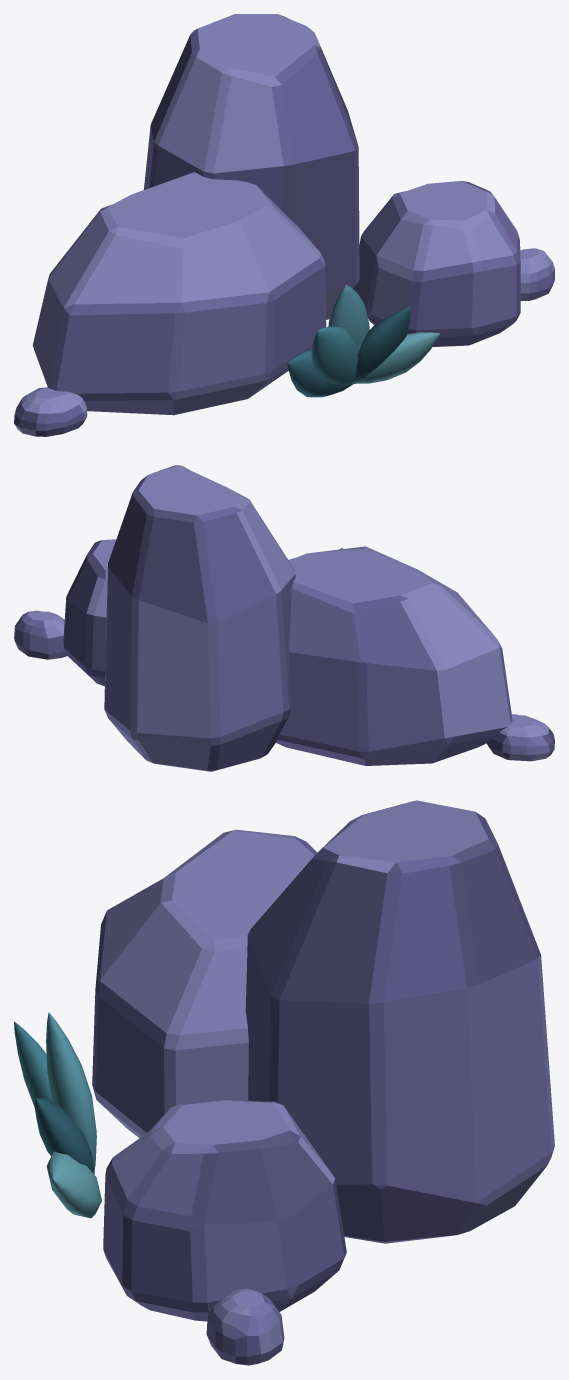
The model's file is slate_rock_cluster.glb.
3 renders of one model, top to bottom at view 1: azimuth 30°, elevation 25°; view 2: azimuth 150°, elevation 25°; view 3: azimuth 270°, elevation 25°, orthographic. The views are drawn at different scales.
Parts seen in each view (by area): view 1: Front_Faceted_Boulder, Rear_Standing_Slate, Right_Low_Boulder, Pebble_Left, Stone_Edge_Leaf_1, Stone_Edge_Leaf_3, Stone_Edge_Leaf_4, Pebble_Right, Stone_Edge_Leaf_2, Stone_Edge_Leaf_0; view 2: Rear_Standing_Slate, Front_Faceted_Boulder, Right_Low_Boulder, Pebble_Left, Pebble_Right; view 3: Rear_Standing_Slate, Right_Low_Boulder, Front_Faceted_Boulder, Pebble_Right, Stone_Edge_Leaf_2, Stone_Edge_Leaf_4, Stone_Edge_Leaf_3, Stone_Edge_Leaf_1.
Part boxes in pixels (x1,y1,x2,y2): Front_Faceted_Boulder: (32, 172, 326, 415); Rear_Standing_Slate: (144, 14, 359, 319); Right_Low_Boulder: (353, 180, 520, 346); Pebble_Left: (14, 387, 87, 436); Stone_Edge_Leaf_1: (311, 326, 358, 385); Stone_Edge_Leaf_3: (354, 307, 410, 383); Stone_Edge_Leaf_4: (354, 332, 439, 383); Pebble_Right: (520, 248, 554, 300); Stone_Edge_Leaf_2: (328, 285, 369, 354); Stone_Edge_Leaf_0: (287, 349, 353, 397); Rear_Standing_Slate: (104, 465, 295, 771); Front_Faceted_Boulder: (276, 546, 512, 765); Right_Low_Boulder: (63, 539, 116, 686); Pebble_Left: (486, 714, 554, 761); Pebble_Right: (14, 610, 66, 659); Rear_Standing_Slate: (245, 800, 554, 1243); Right_Low_Boulder: (103, 1100, 346, 1321); Front_Faceted_Boulder: (92, 829, 317, 1137); Pebble_Right: (206, 1288, 284, 1365); Stone_Edge_Leaf_2: (46, 1012, 96, 1169); Stone_Edge_Leaf_4: (46, 1151, 101, 1218); Stone_Edge_Leaf_3: (34, 1098, 94, 1174); Stone_Edge_Leaf_1: (14, 1021, 51, 1106).
Bounding box in the file's own units: 2.06 × 0.9552 × 1.24.
